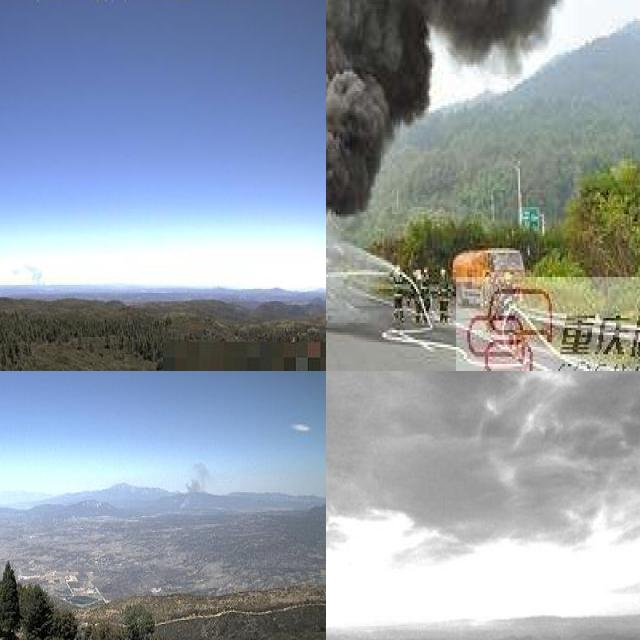smoke: (326, 0, 640, 221), (169, 456, 209, 516), (7, 260, 55, 293)
